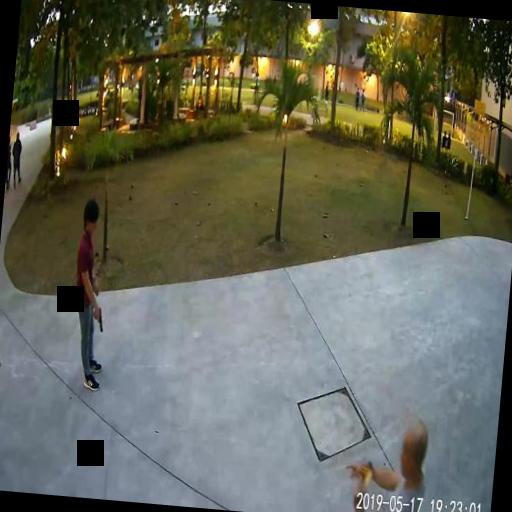Handgun: (90, 305, 104, 333)
